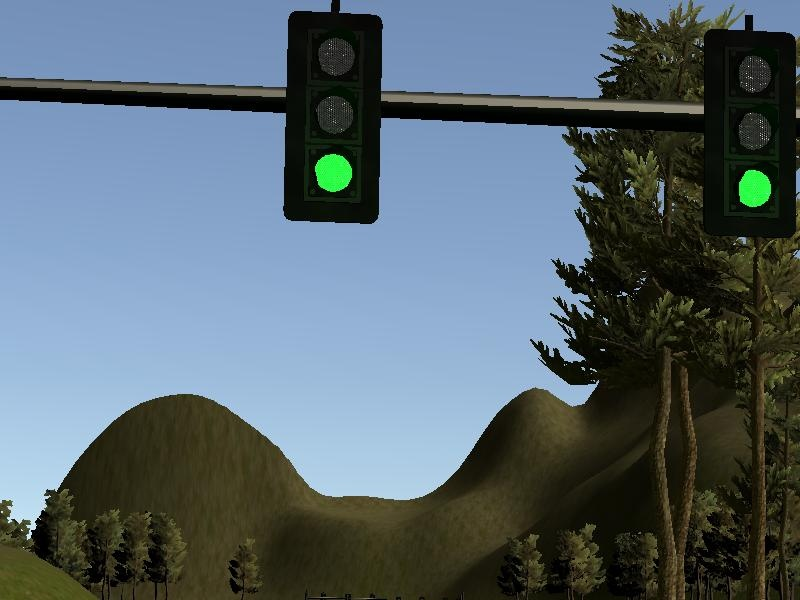GREEN: (282, 11, 383, 223), (701, 30, 796, 240)
